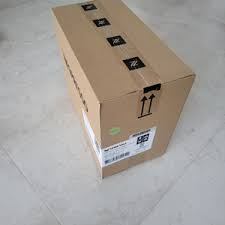undamaged: (52, 0, 198, 179)
